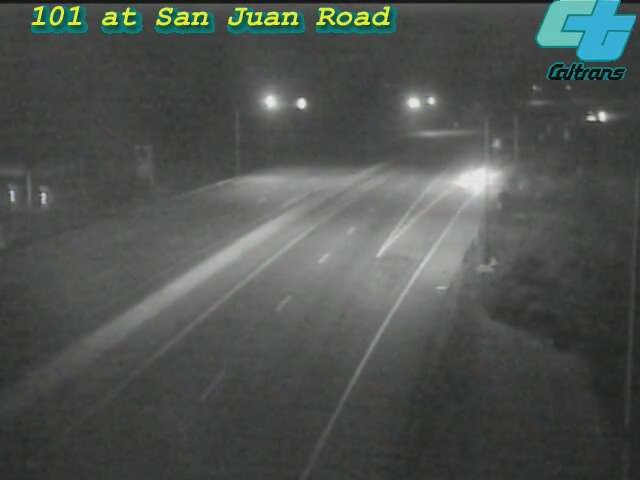vehicle: (436, 139, 516, 219), (573, 91, 623, 141)
